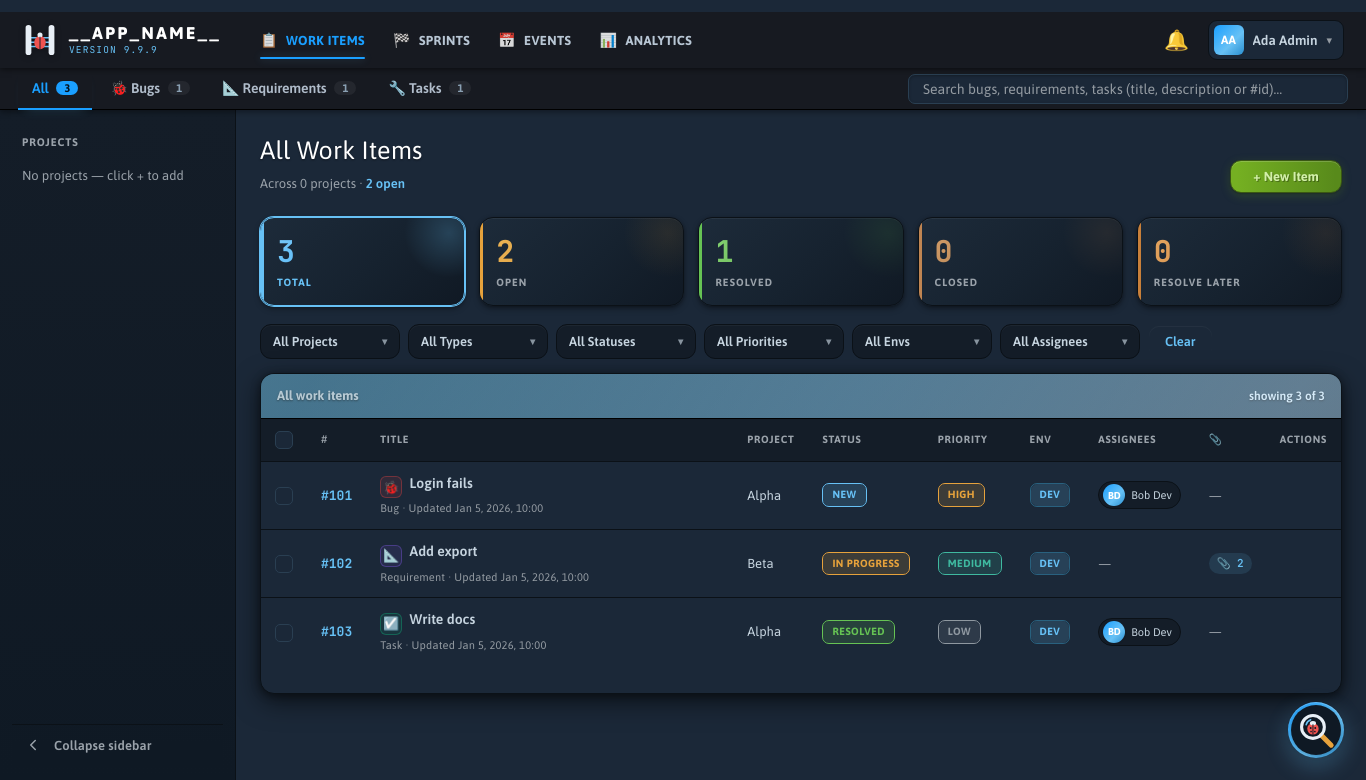
Test: empty and switching › without manage rights there is no New project shortcut
Click the button "🏁 Sprints".
click(432, 40)  # box [380,12,483,68]
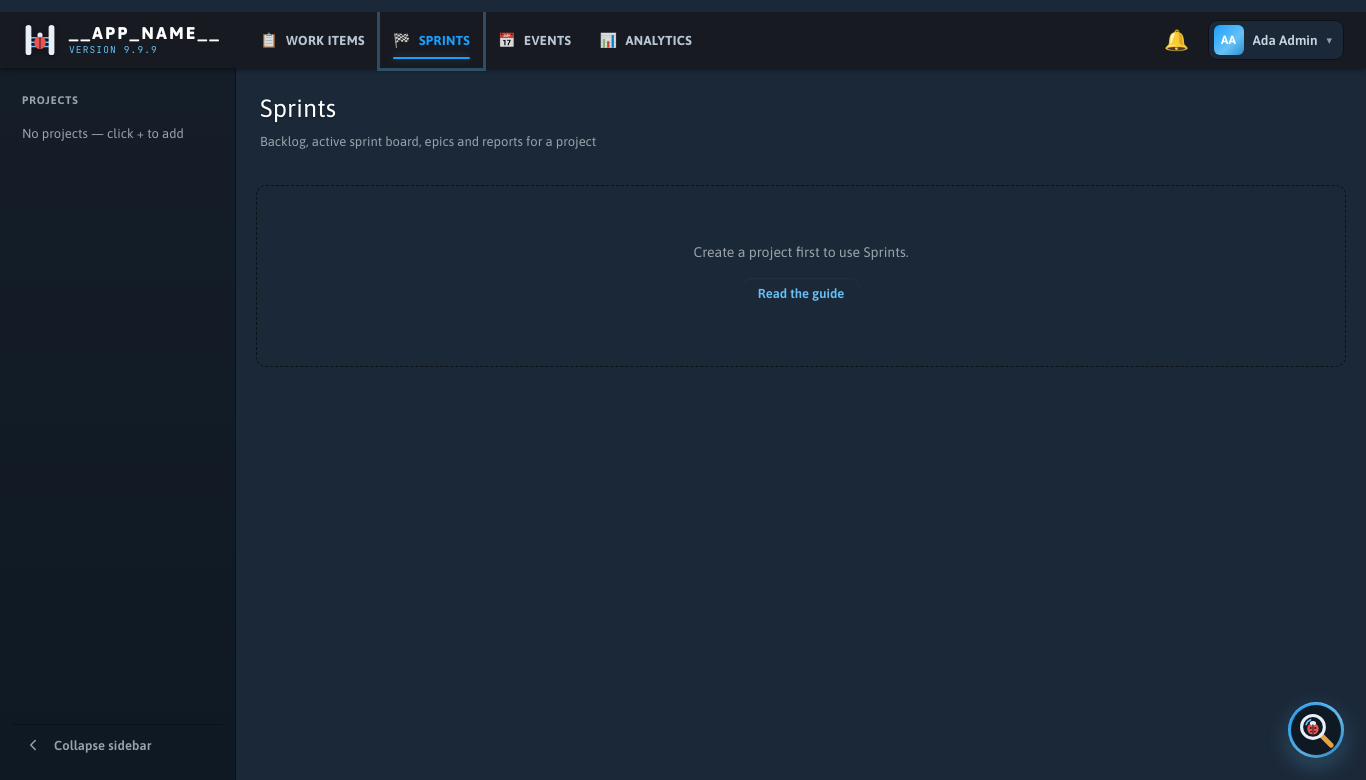
Expected: the text "Create a project first to use Sprints. Read the guide" is shown, [256,185,1346,367]
